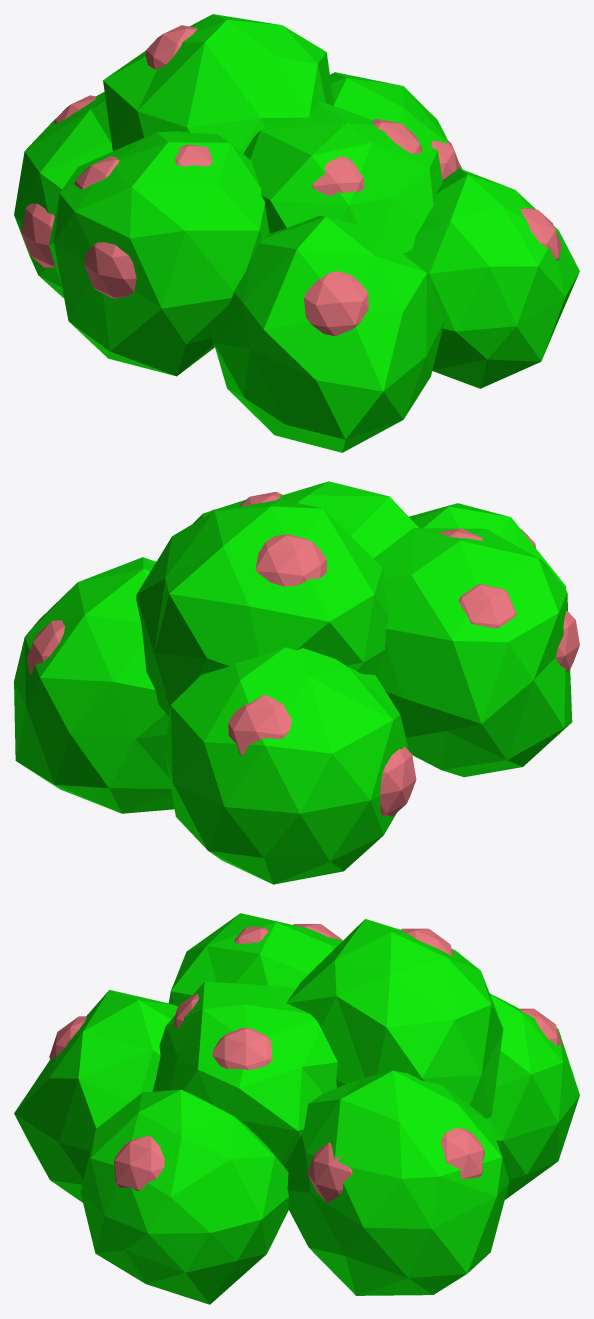
File: GameBush.fbx
3 renders of one model, top to bottom at view 1: azimuth 30°, elevation 25°; view 2: azimuth 150°, elevation 25°; view 3: azimuth 270°, elevation 25°, orthographic. The views are drawn at different scales.
Parts seen in each view (by area): view 1: Icosphere; view 2: Icosphere; view 3: Icosphere.
Boxes of the visible parts, x1,y1,x2,y2 form: Icosphere: [14, 14, 579, 452]; Icosphere: [14, 481, 579, 884]; Icosphere: [14, 913, 579, 1304].
Size of the model in its own units: 430 by 291 by 503.
